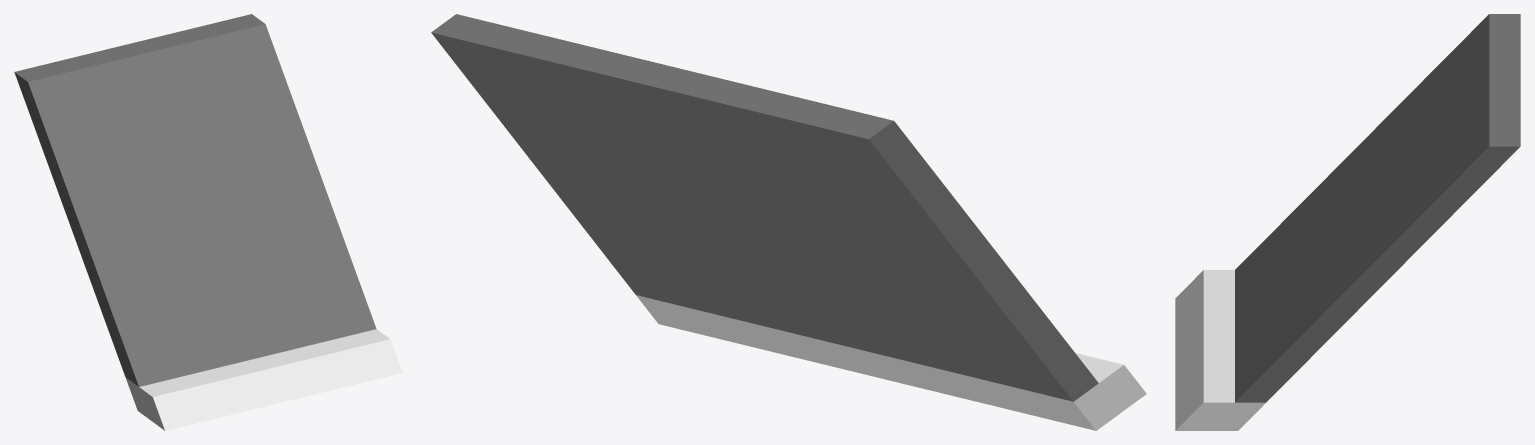
Rendered from RoofSlopeSmall.fbx.
The picture shows the model from 3 angles, left to right: view 1: azimuth 30°, elevation 25°; view 2: azimuth 150°, elevation 25°; view 3: azimuth 270°, elevation 25°; orthographic projection. The views are drawn at different scales.
Parts seen in each view (by area): view 1: RoofSlopeSmall; view 2: RoofSlopeSmall; view 3: RoofSlopeSmall.
Part boxes in pixels (bbox=[...]): RoofSlopeSmall: bbox=[14, 14, 402, 430]; RoofSlopeSmall: bbox=[431, 14, 1146, 430]; RoofSlopeSmall: bbox=[1175, 14, 1520, 430].
Size of the model in its own units: 100 by 100 by 110.
